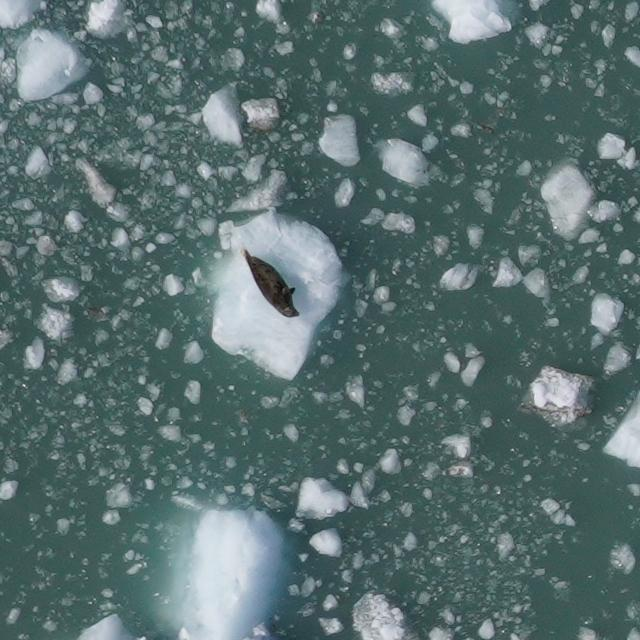seal: (236, 242, 301, 323)
